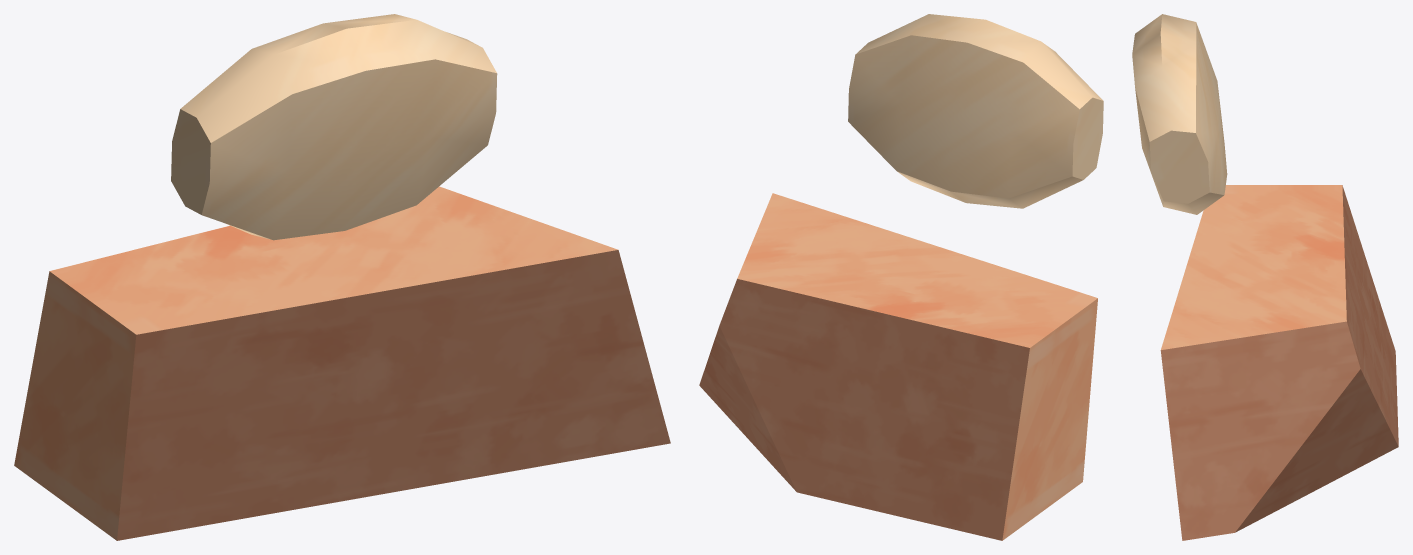
The model's file is divan_s06.fbx.
3 views of the same model, side by side, from view 1: azimuth 30°, elevation 25°; view 2: azimuth 150°, elevation 25°; view 3: azimuth 270°, elevation 25° (orthographic). The views are drawn at different scales.
Visible parts, largest first — view 1: divan_s06; view 2: divan_s06; view 3: divan_s06.
Boxes of the visible parts, <box> form: divan_s06: <box>14,14,670,540</box>; divan_s06: <box>699,14,1103,540</box>; divan_s06: <box>1132,14,1398,540</box>.
Size of the model in its own units: 3.06 by 2.88 by 1.82.
